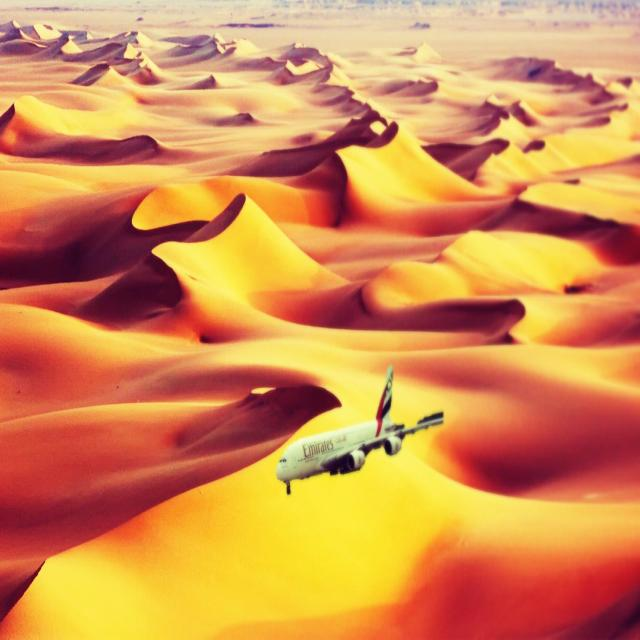airplane: (275, 363, 444, 495)
